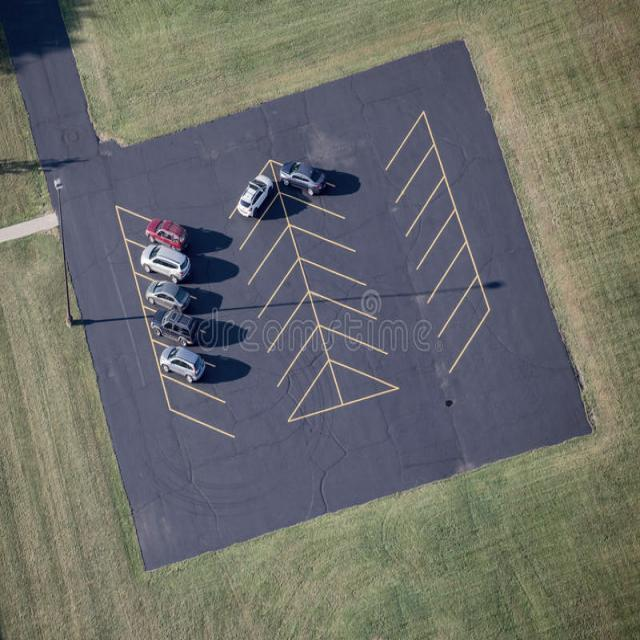car: (227, 149, 285, 258), (134, 266, 217, 331), (270, 150, 343, 223), (151, 339, 226, 403), (118, 199, 202, 254), (126, 244, 205, 295), (142, 306, 212, 358)
free: (161, 365, 248, 447), (410, 201, 469, 312), (273, 324, 335, 428), (246, 213, 305, 322), (267, 282, 322, 395), (393, 139, 449, 247), (406, 167, 460, 275), (438, 269, 490, 379), (291, 221, 370, 291), (426, 239, 480, 341), (259, 253, 310, 357), (309, 289, 389, 355), (386, 106, 436, 209), (328, 359, 407, 412), (286, 358, 349, 422)
